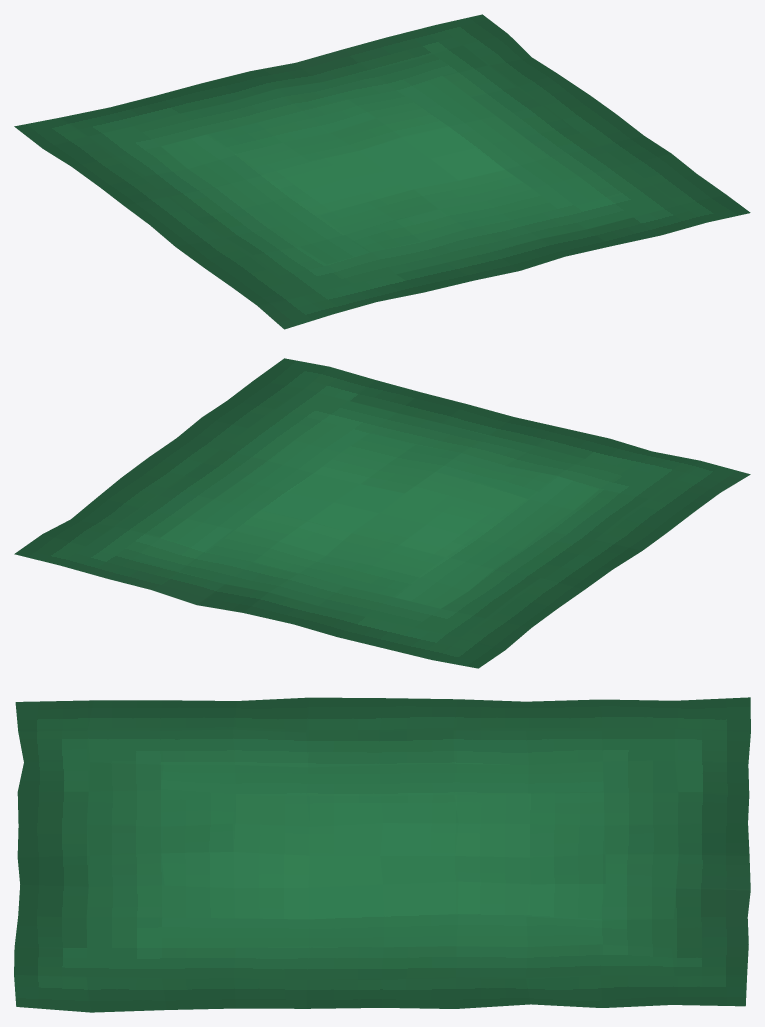
3 views of the same model, one above another, from view 1: azimuth 30°, elevation 25°; view 2: azimuth 150°, elevation 25°; view 3: azimuth 270°, elevation 25° (orthographic). The views are drawn at different scales.
Visible parts, largest first — view 1: Plane; view 2: Plane; view 3: Plane.
Boxes of the visible parts, <box> form: Plane: <box>14,14,750,329</box>; Plane: <box>14,358,750,668</box>; Plane: <box>14,697,750,1012</box>.
Bounding box in the file's own units: 675 × 7.6 × 677.
1 material, 1 textured.
